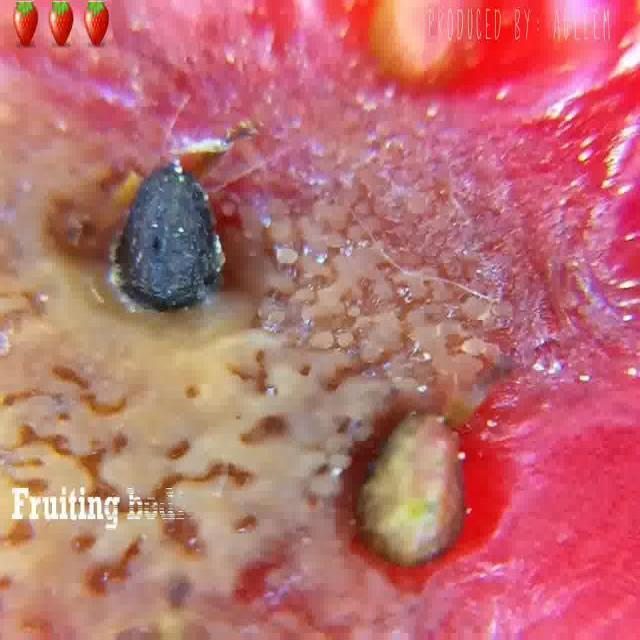Mancha negra Antracnosis: (51, 98, 602, 626)
